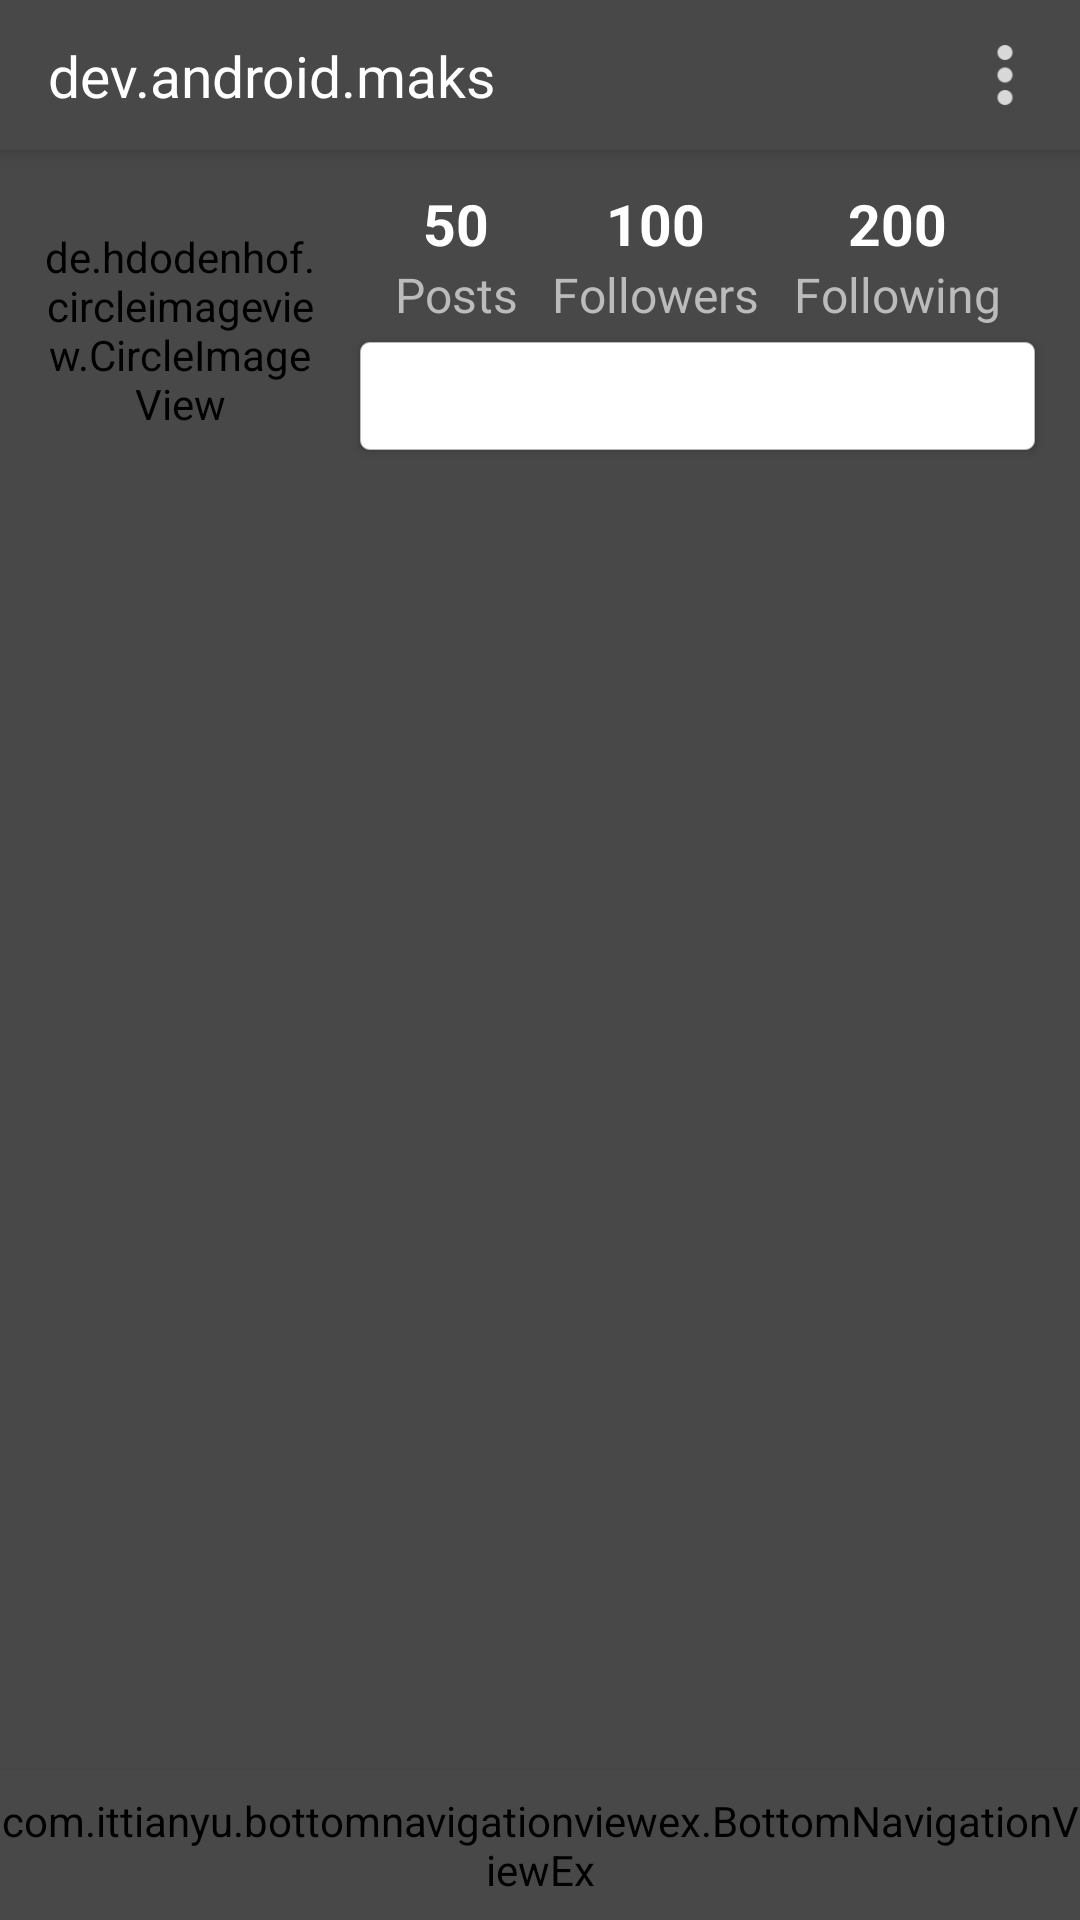

Screen size 1080 x 1920. Icon name, then its center in pixels as point (x, y):
more: point (1005, 75)
